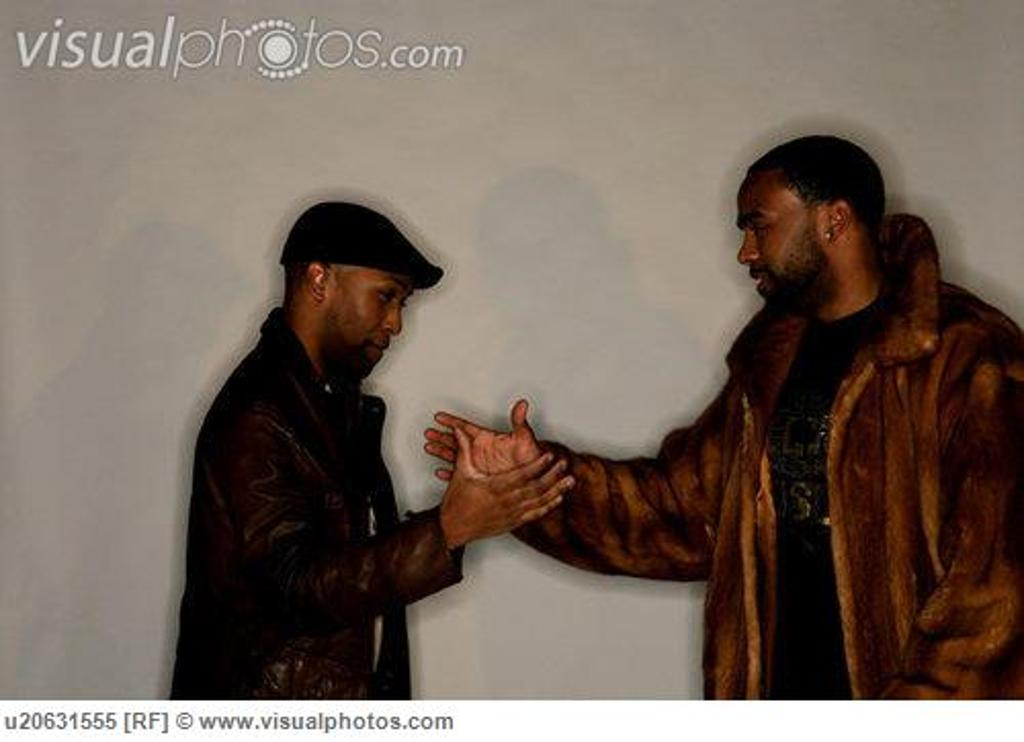face: (738, 176, 828, 308), (330, 256, 414, 372)
